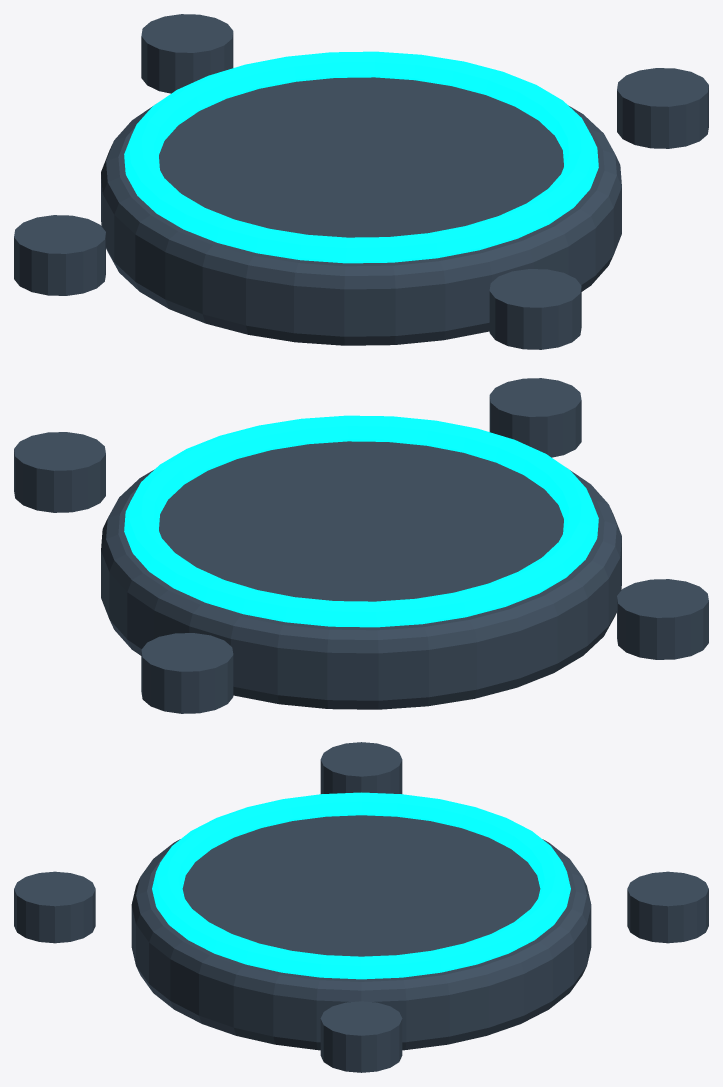
The model's file is HandWheelHub.glb.
3 views of the same model, one above another, from view 1: azimuth 30°, elevation 25°; view 2: azimuth 150°, elevation 25°; view 3: azimuth 270°, elevation 25° (orthographic). The views are drawn at different scales.
Visible parts, largest first — view 1: Hub_Core, Hub_Glow_Ring, Hub_Docking_Socket_3, Hub_Docking_Socket_0, Hub_Docking_Socket_2, Hub_Docking_Socket_1; view 2: Hub_Core, Hub_Glow_Ring, Hub_Docking_Socket_1, Hub_Docking_Socket_0, Hub_Docking_Socket_2, Hub_Docking_Socket_3; view 3: Hub_Core, Hub_Glow_Ring, Hub_Docking_Socket_0, Hub_Docking_Socket_1, Hub_Docking_Socket_3, Hub_Docking_Socket_2.
Boxes of the visible parts, <box> form: Hub_Core: <box>101,77,621,345</box>; Hub_Glow_Ring: <box>124,51,598,263</box>; Hub_Docking_Socket_3: <box>489,269,581,349</box>; Hub_Docking_Socket_0: <box>617,68,708,148</box>; Hub_Docking_Socket_2: <box>14,215,105,295</box>; Hub_Docking_Socket_1: <box>141,14,233,93</box>; Hub_Core: <box>101,441,621,709</box>; Hub_Glow_Ring: <box>124,415,598,627</box>; Hub_Docking_Socket_1: <box>141,633,233,713</box>; Hub_Docking_Socket_0: <box>14,432,105,512</box>; Hub_Docking_Socket_2: <box>617,579,708,659</box>; Hub_Docking_Socket_3: <box>489,378,581,457</box>; Hub_Core: <box>131,815,591,1050</box>; Hub_Glow_Ring: <box>152,792,570,979</box>; Hub_Docking_Socket_0: <box>320,1001,402,1072</box>; Hub_Docking_Socket_1: <box>627,871,708,943</box>; Hub_Docking_Socket_3: <box>14,871,95,943</box>; Hub_Docking_Socket_2: <box>320,742,402,793</box>.
Size of the model in its own units: 0.136 by 0.0185 by 0.136.
